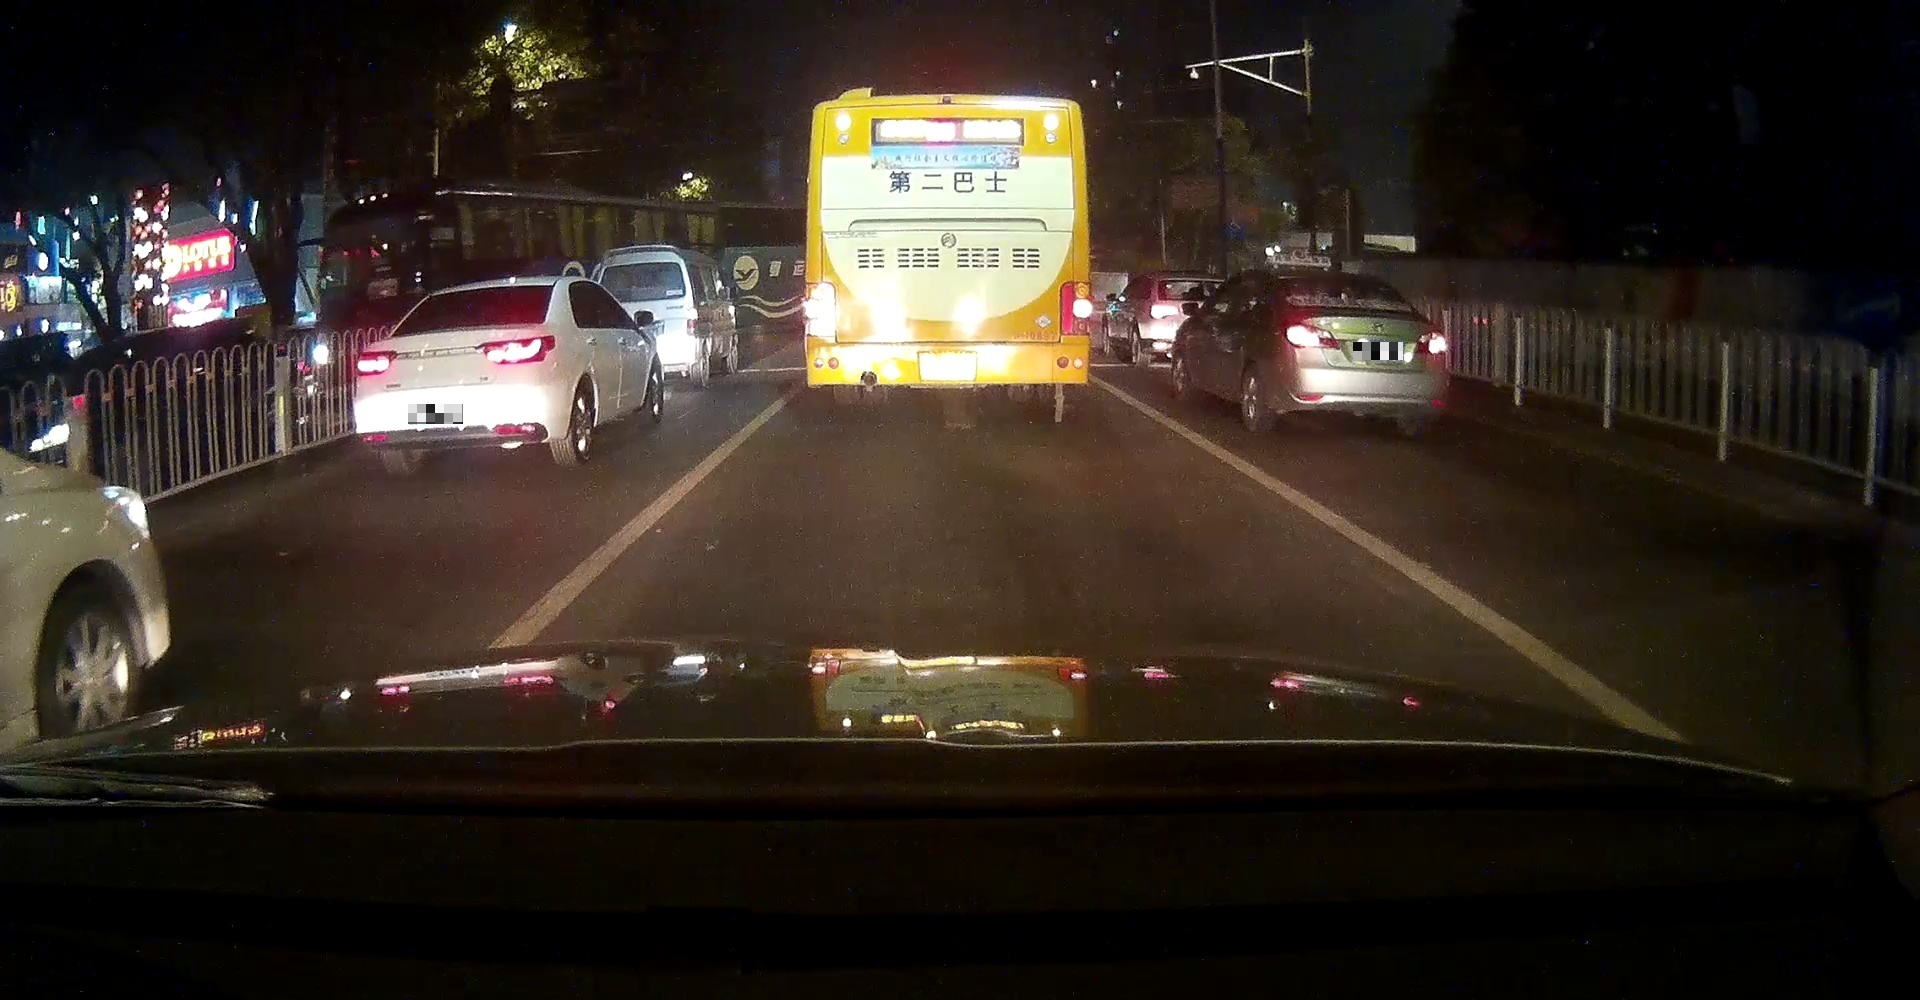L_light: (804, 280, 836, 338), (1281, 320, 1340, 350), (356, 350, 397, 376)
R_light: (476, 335, 555, 365), (1059, 279, 1092, 335), (1415, 330, 1449, 355)
T_light: (935, 95, 959, 107), (472, 284, 498, 293), (1327, 273, 1352, 280)
night-no: (803, 88, 1092, 415), (354, 275, 557, 478), (1269, 266, 1449, 437)
plate_1: (408, 404, 463, 424)
plate_2: (1352, 341, 1403, 360)
